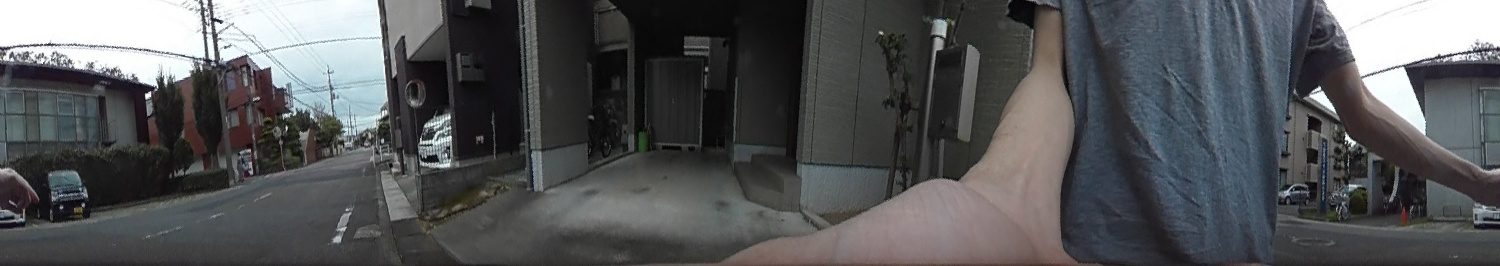difficult_person: (235, 152, 247, 181)
